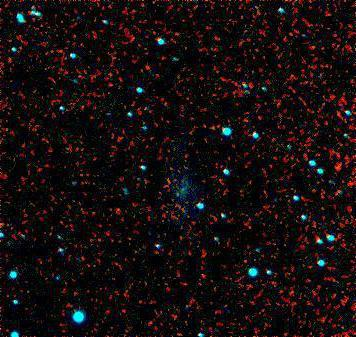star: (162, 176, 192, 206)
